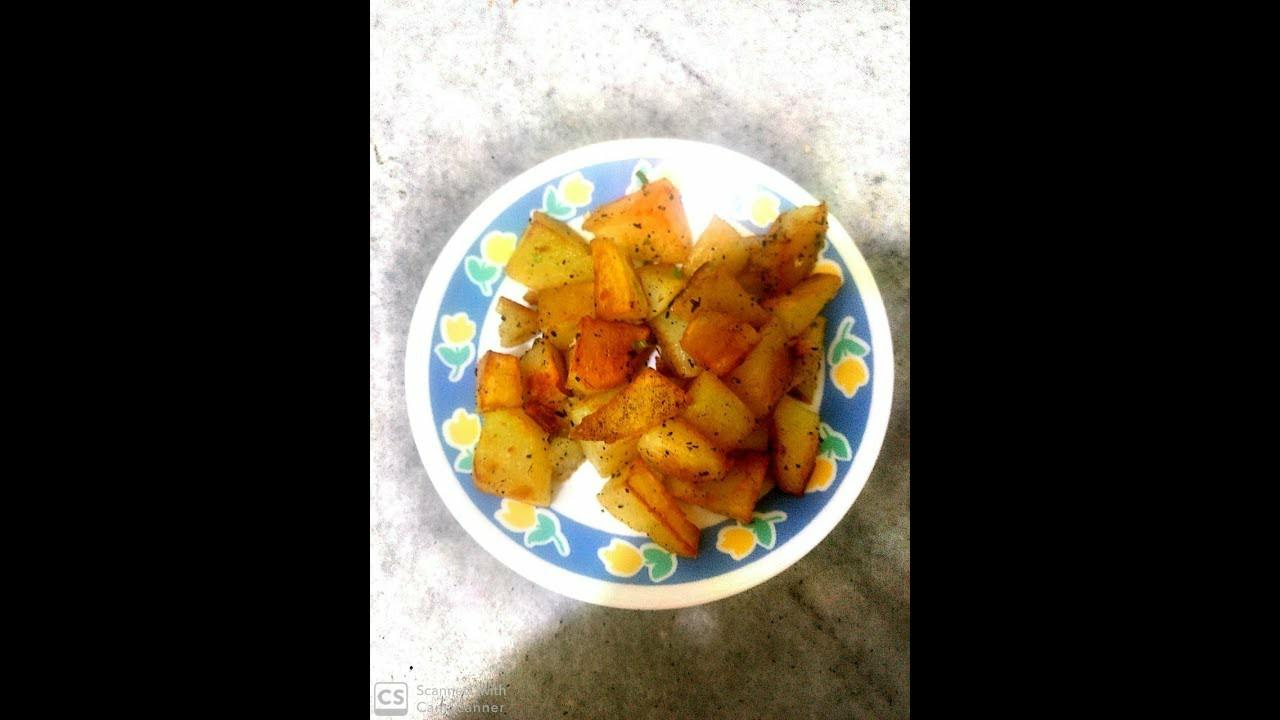AlooMasala: (472, 179, 846, 553)
